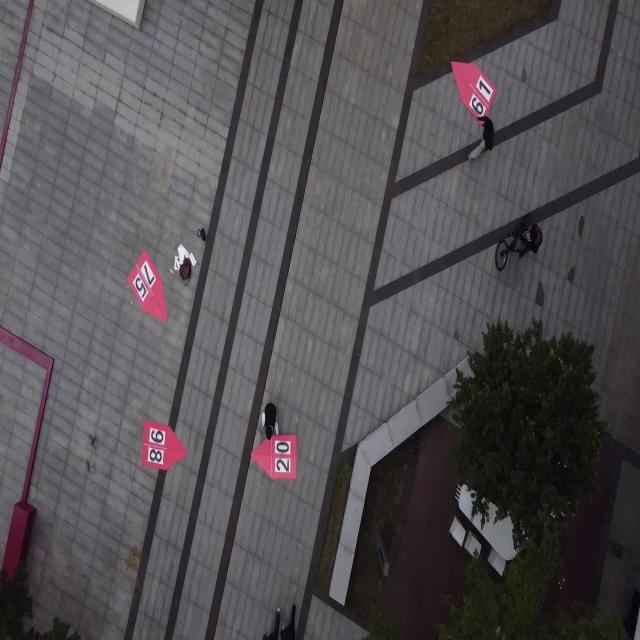-sign-: (446, 57, 500, 133), (126, 246, 174, 330), (246, 427, 306, 494), (141, 419, 187, 472)
